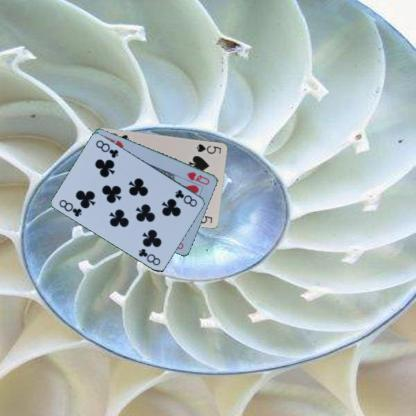5s: (194, 141, 223, 155)
8c: (57, 196, 83, 218), (173, 187, 199, 208)
Qh: (184, 169, 211, 186)
